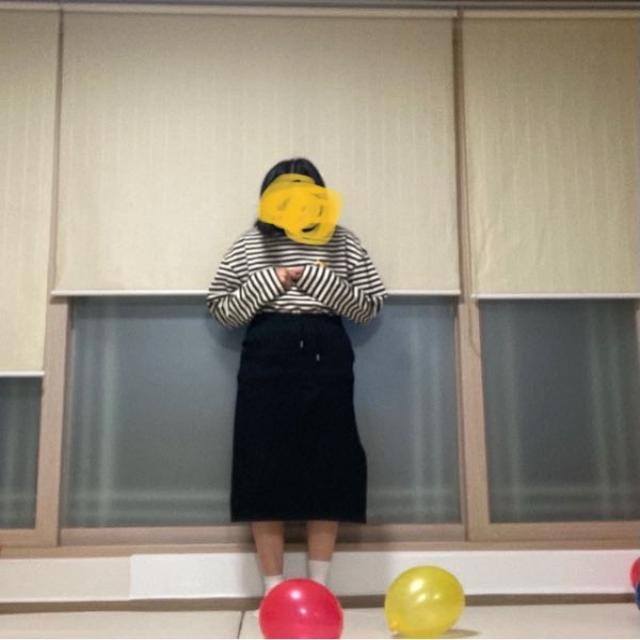longsleeve: (207, 220, 389, 325)
skirt: (232, 311, 369, 524)
